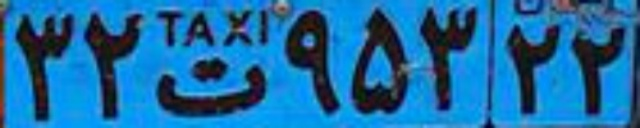2: (80, 9, 140, 120), (569, 24, 627, 116), (506, 21, 561, 115)
3: (416, 6, 478, 111), (16, 12, 71, 121)
5: (351, 7, 410, 115)
9: (285, 8, 338, 115)
te: (151, 56, 271, 117)
